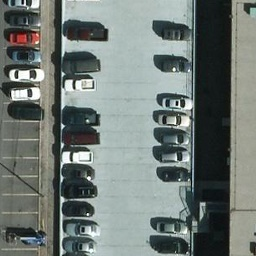car: (9, 104, 43, 121), (64, 108, 98, 125), (62, 128, 96, 145), (60, 147, 94, 164), (60, 161, 94, 178), (61, 181, 95, 198), (61, 201, 95, 218), (63, 219, 97, 236), (64, 237, 98, 254), (153, 239, 187, 256), (153, 216, 187, 233), (155, 163, 189, 180), (158, 145, 192, 162), (155, 128, 189, 145), (155, 112, 189, 129), (157, 90, 191, 107), (157, 56, 191, 73), (157, 27, 191, 44), (65, 24, 99, 41), (66, 54, 100, 71), (64, 79, 98, 96), (5, 83, 39, 100), (10, 67, 44, 84), (8, 45, 42, 62), (6, 27, 40, 44), (7, 8, 41, 25)
